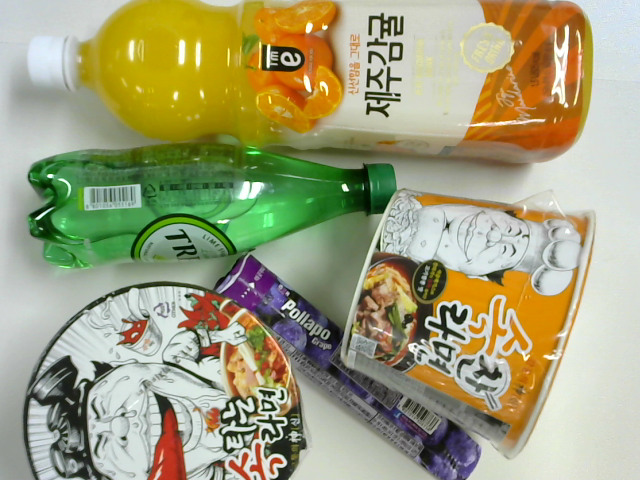HeJangsock: (21, 284, 308, 480)
Hejangchan: (335, 188, 604, 460)
Jeju_Tangerine_1.5L: (29, 1, 597, 160)
Polapo_Grape: (211, 253, 480, 480)
Treviraim_500ml: (28, 143, 402, 269)
